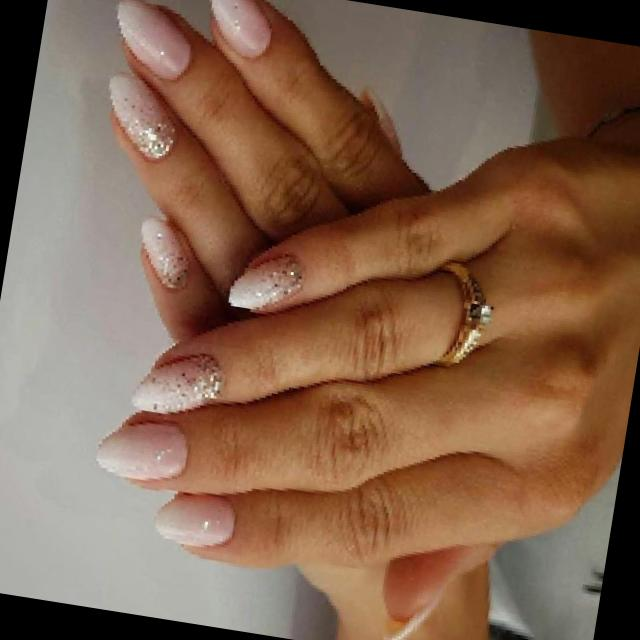Nail: (117, 0, 190, 79), (109, 74, 175, 161), (133, 353, 222, 414), (96, 423, 186, 481), (228, 255, 302, 311), (156, 494, 234, 546), (141, 217, 190, 289), (211, 0, 271, 57)
